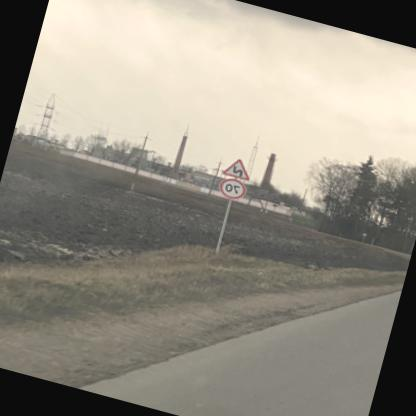speedlimit: (220, 175, 250, 201)
